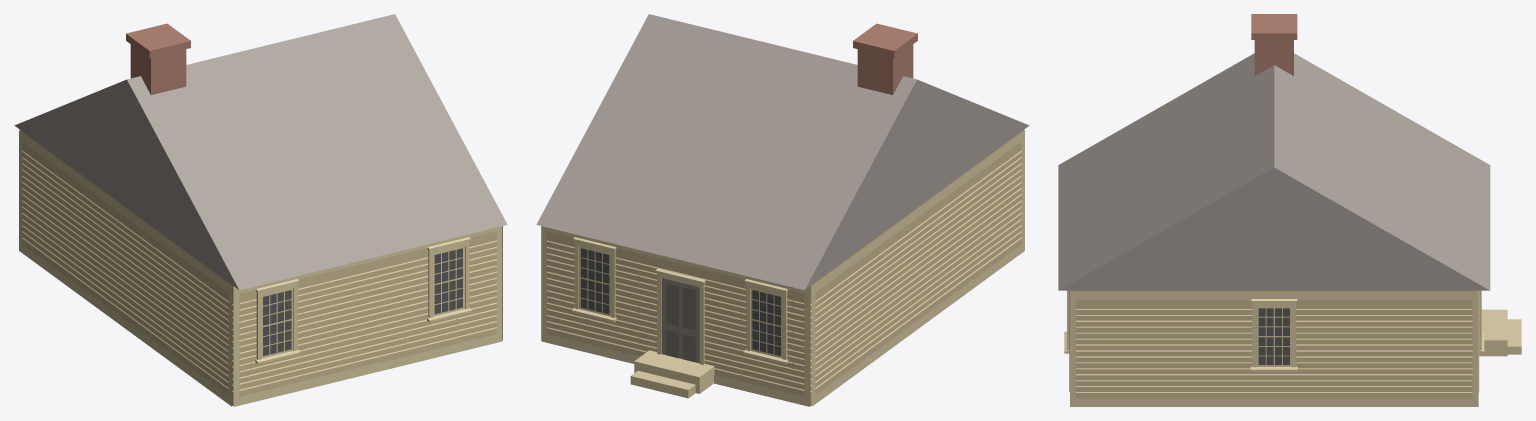
File: recon_1835_blk_school_section_tier_81_d4_03__inferred_1835.glb
The picture shows the model from 3 angles, left to right: view 1: azimuth 30°, elevation 25°; view 2: azimuth 150°, elevation 25°; view 3: azimuth 270°, elevation 25°; orthographic projection. The views are drawn at different scales.
Visible parts, largest first — view 1: recon_1835_blk_school_section_tier_81_d4_03__inferred_1835; view 2: recon_1835_blk_school_section_tier_81_d4_03__inferred_1835; view 3: recon_1835_blk_school_section_tier_81_d4_03__inferred_1835.
Boxes of the visible parts, x1=… form: recon_1835_blk_school_section_tier_81_d4_03__inferred_1835: x1=14, y1=14, x2=507, y2=406; recon_1835_blk_school_section_tier_81_d4_03__inferred_1835: x1=536, y1=14, x2=1029, y2=406; recon_1835_blk_school_section_tier_81_d4_03__inferred_1835: x1=1058, y1=14, x2=1521, y2=406.
Bounding box in the file's own units: 6.51 × 6.42 × 9.91.
